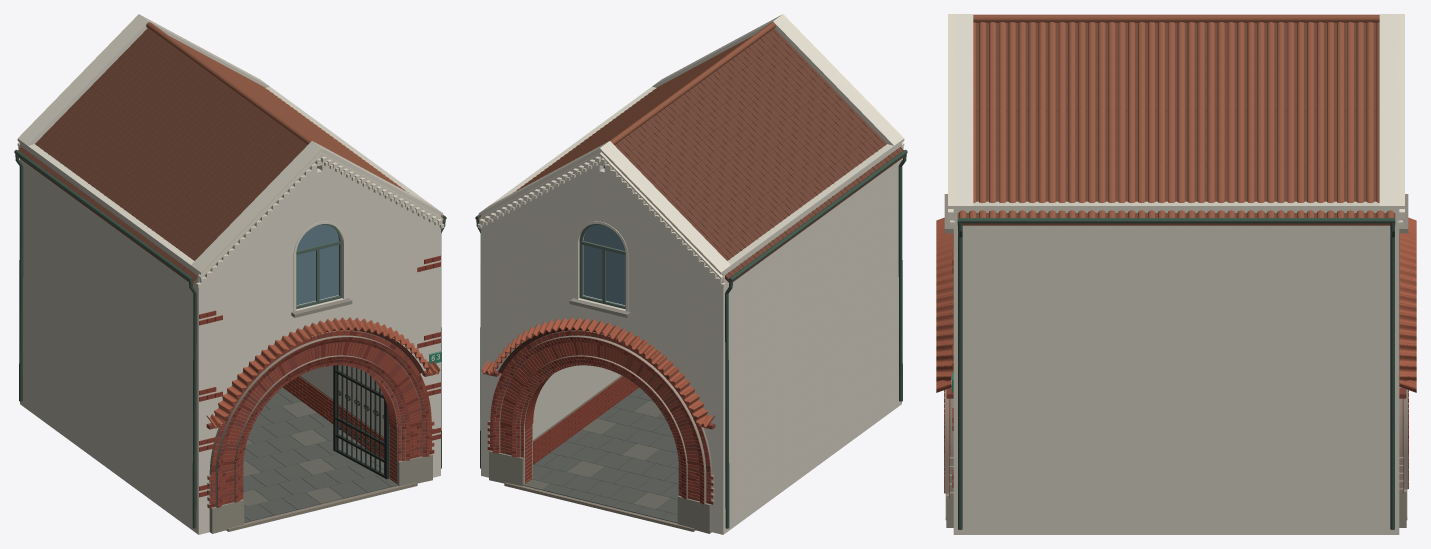
File: xuhui-li-garden-gaoan-gatehouse-web.glb
3 views of the same model, side by side, from view 1: azimuth 30°, elevation 25°; view 2: azimuth 150°, elevation 25°; view 3: azimuth 270°, elevation 25° (orthographic). The views are drawn at different scales.
Parts seen in each view (by area): view 1: 励家花园高安路街门与双面砖券过道; view 2: 励家花园高安路街门与双面砖券过道; view 3: 励家花园高安路街门与双面砖券过道.
Boxes of the visible parts, box(x1,y1,x2,y2) form: 励家花园高安路街门与双面砖券过道: box(14, 14, 446, 534); 励家花园高安路街门与双面砖券过道: box(475, 14, 907, 534); 励家花园高安路街门与双面砖券过道: box(936, 14, 1416, 534).
Bounding box in the file's own units: 5.11 × 6.85 × 6.64.
Materials: 26 (1 with a texture image).
